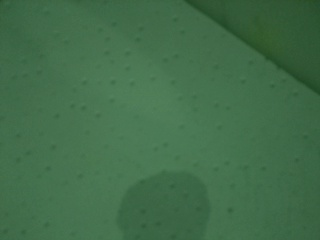Water_detected: (125, 174, 193, 240)
